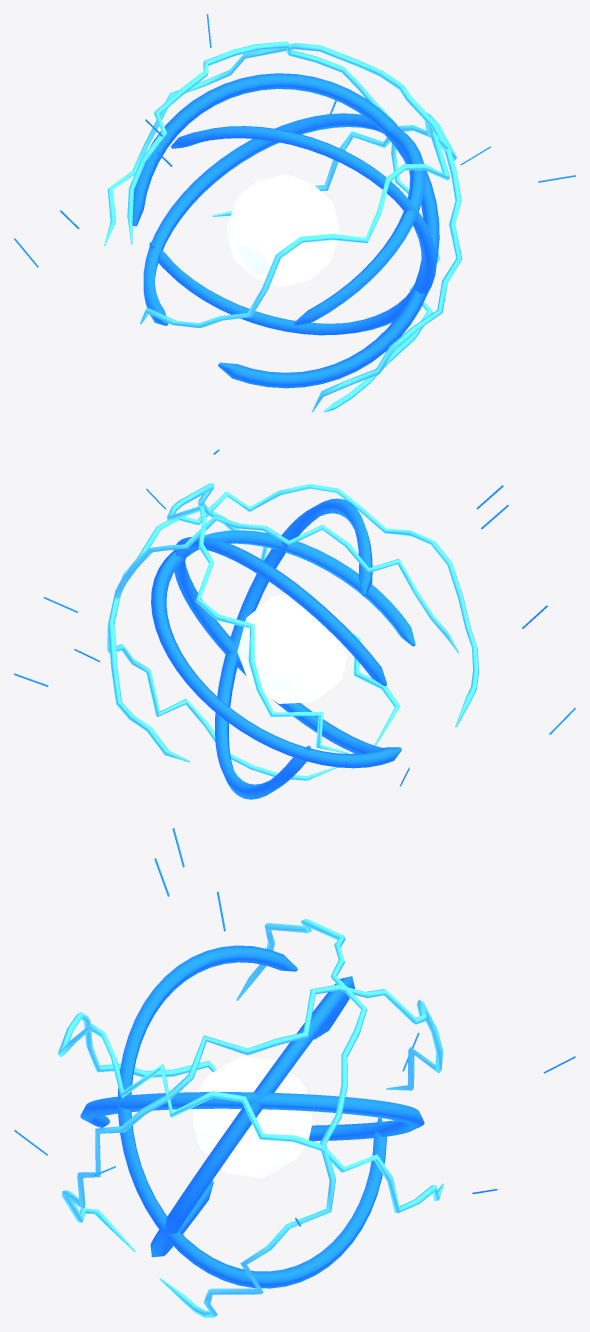
File: orb.glb
3 views of the same model, one above another, from view 1: azimuth 30°, elevation 25°; view 2: azimuth 150°, elevation 25°; view 3: azimuth 270°, elevation 25° (orthographic). The views are drawn at different scales.
Visible parts, largest first — view 1: OuterEnergy, LocalArcs, Core; view 2: OuterEnergy, LocalArcs, Core, Sparks; view 3: OuterEnergy, LocalArcs, Core, Sparks.
Part boxes in pixels (x1=…): OuterEnergy: x1=132, y1=73, x2=439, y2=388; LocalArcs: x1=104, y1=41, x2=462, y2=412; Core: x1=226, y1=174, x2=340, y2=287; OuterEnergy: x1=151, y1=498, x2=415, y2=799; LocalArcs: x1=107, y1=483, x2=478, y2=780; Core: x1=237, y1=595, x2=348, y2=703; Sparks: x1=14, y1=485, x2=575, y2=786; OuterEnergy: x1=80, y1=945, x2=424, y2=1288; LocalArcs: x1=58, y1=918, x2=443, y2=1317; Core: x1=193, y1=1056, x2=311, y2=1178; Sparks: x1=14, y1=828, x2=575, y2=1226.
Size of the model in its own units: 1.65 by 1.15 by 1.57.
